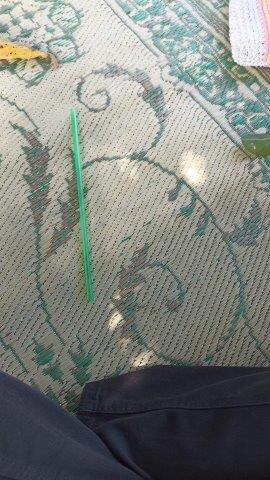sedotan: (70, 109, 93, 299)
